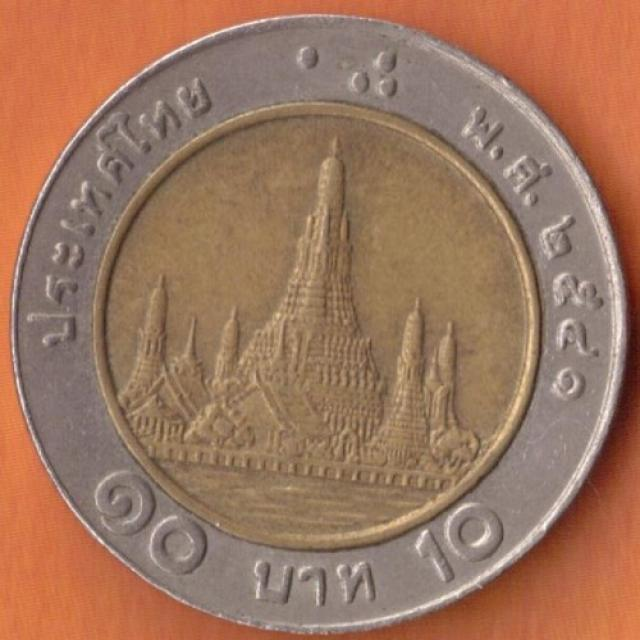10 Bath: (9, 14, 635, 629)
